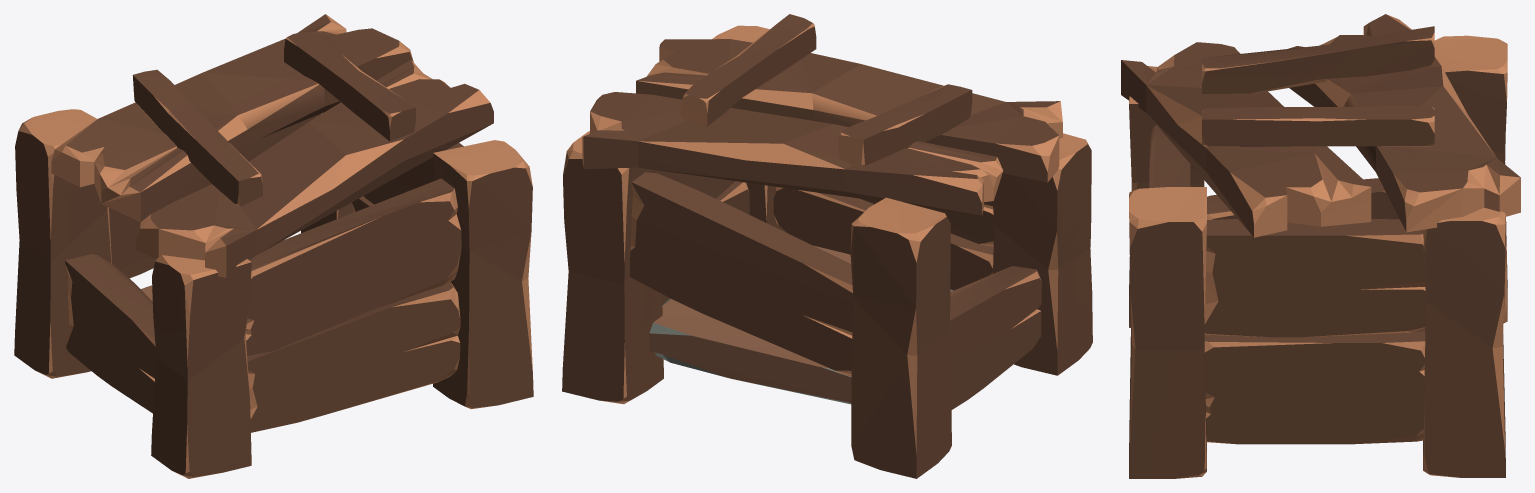
Rendered from Varil.fbx.
3 views of the same model, side by side, from view 1: azimuth 30°, elevation 25°; view 2: azimuth 150°, elevation 25°; view 3: azimuth 270°, elevation 25° (orthographic). The views are drawn at different scales.
Visible parts, largest first — view 1: Varil; view 2: Varil; view 3: Varil.
Part boxes in pixels (<box>): Varil: <box>14,14,533,478</box>; Varil: <box>562,14,1092,478</box>; Varil: <box>1121,14,1520,478</box>.
Size of the model in its own units: 51 by 36.93 by 42.56.
